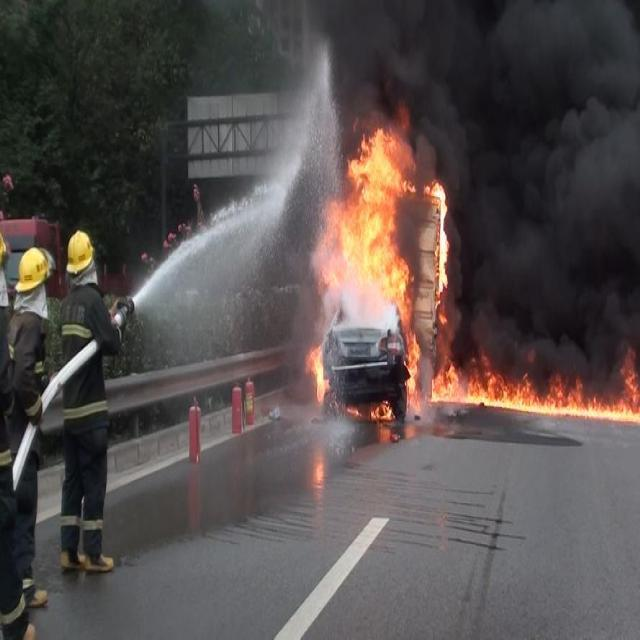Fire: (314, 123, 414, 305), (510, 364, 640, 419), (434, 351, 508, 406), (426, 182, 448, 290), (403, 324, 421, 411), (305, 344, 327, 406)
Smoke: (450, 108, 640, 348), (314, 0, 640, 105)
